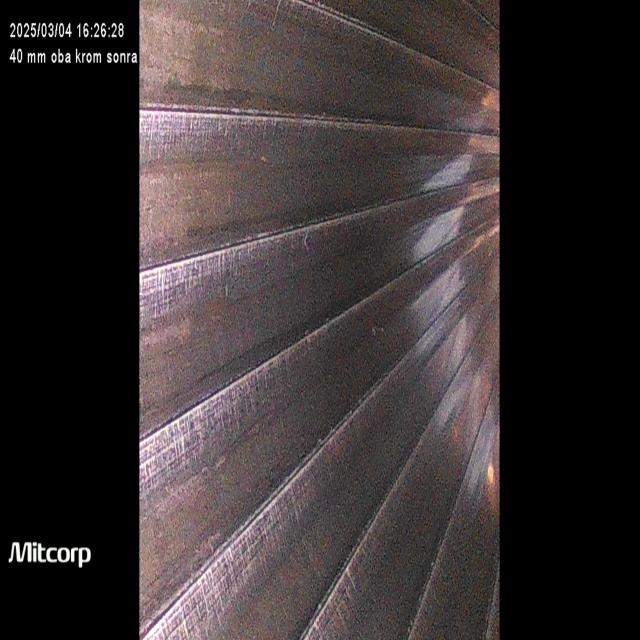hata_8.2: (145, 297, 459, 640)
